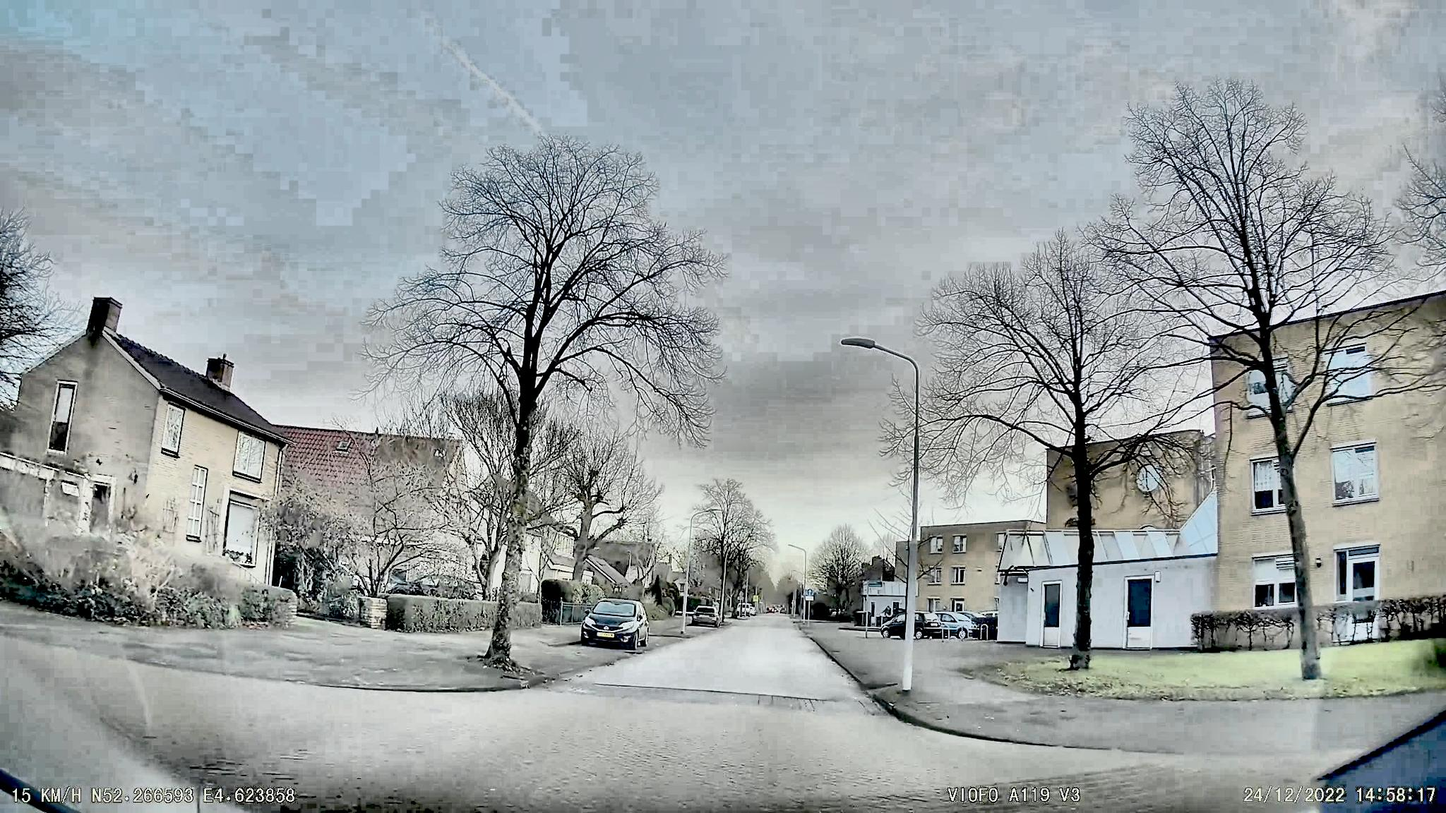Roads: (0, 619, 1252, 813)
